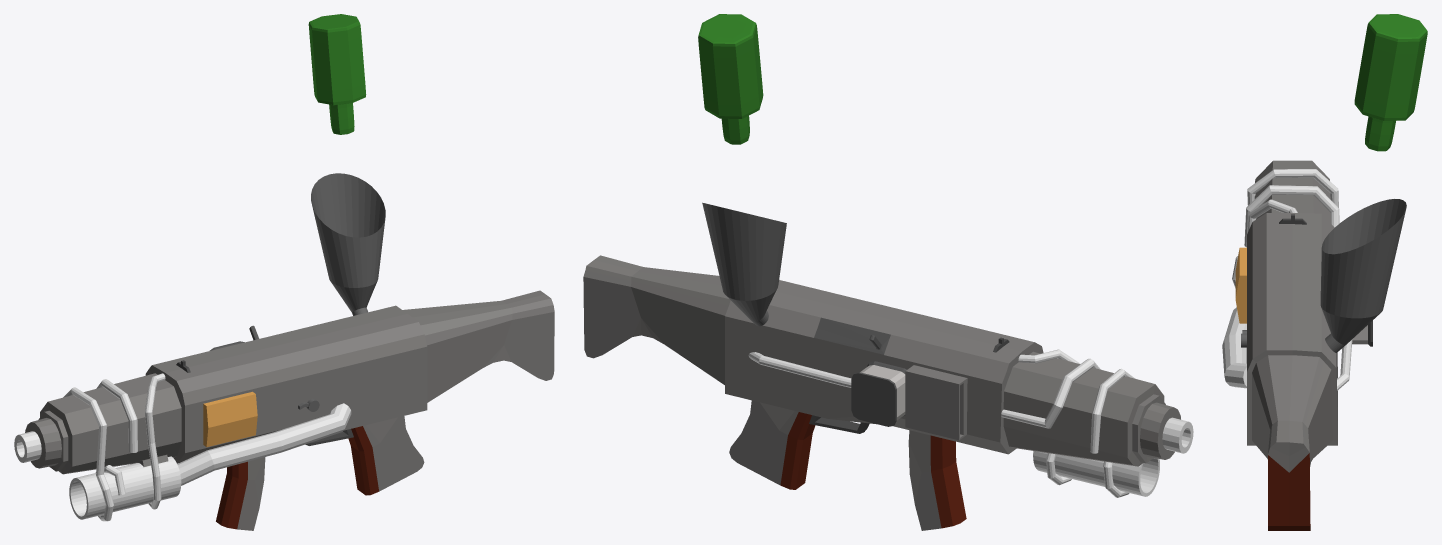
Rendered from WaterGunfin.fbx.
The picture shows the model from 3 angles, left to right: view 1: azimuth 30°, elevation 25°; view 2: azimuth 150°, elevation 25°; view 3: azimuth 270°, elevation 25°; orthographic projection. The views are drawn at different scales.
Visible parts, largest first — view 1: Cube.010, bottle; view 2: Cube.010, bottle, zatvor.001; view 3: Cube.010, bottle.
Boxes of the visible parts, x1=… form: Cube.010: x1=14, y1=173, x2=554, y2=530; bottle: x1=308, y1=14, x2=366, y2=134; Cube.010: x1=583, y1=202, x2=1193, y2=530; bottle: x1=698, y1=14, x2=763, y2=144; zatvor.001: x1=814, y1=317, x2=890, y2=354; Cube.010: x1=1222, y1=160, x2=1406, y2=530; bottle: x1=1354, y1=14, x2=1427, y2=151.
Bounding box in the file's own units: 370 × 298 × 108.
